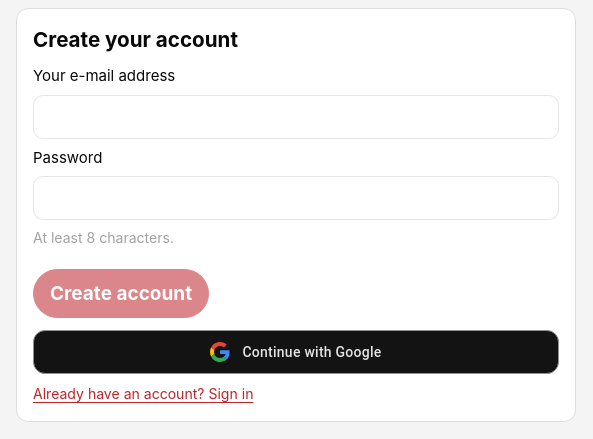
Test case: 32.16 §2.0 — create an account › an e-mail already on file for someone's record → the code step (account.verify.title, account.on_file, auth.code.enter with the e-mail, the FAKE code marked) →
The width and height of the screenshot is (593, 439).
Later steps or results of the test are not shown.
Type "Maya@Example.com" into the field labelled "Your e-mail address".
click(296, 117); type("Maya@Example.com")  # box [33,95,559,139]
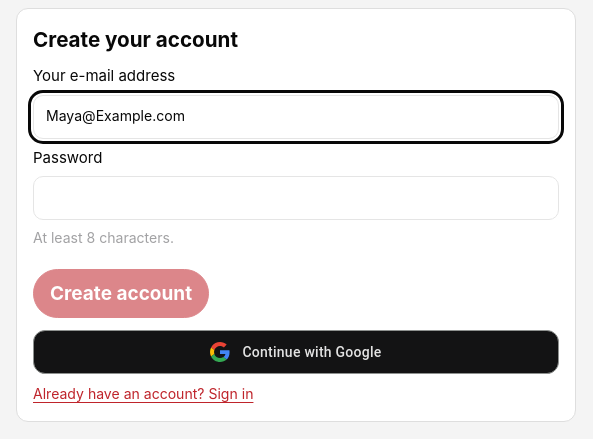
Type "correct horse" into the password field labelled "Password".
click(296, 198); type("correct horse")  # box [33,176,559,220]
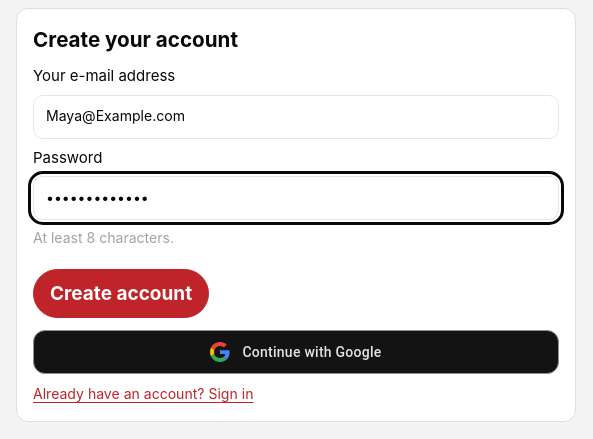
Click the button "Create account".
click(121, 294)  # box [33,269,209,318]
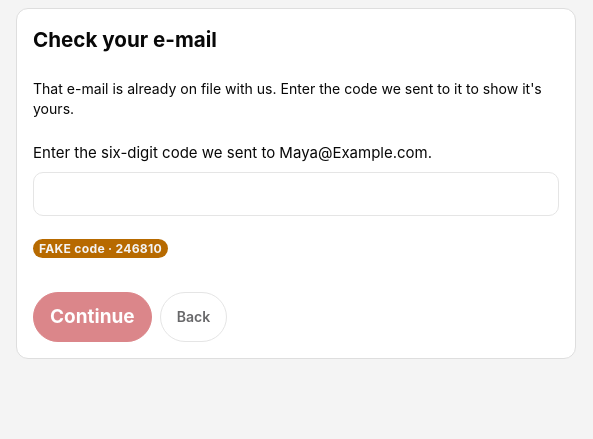
Now the heading "Check your e-mail" is shown, box [33,27,217,52]
Now the text with test id "account-on-file" shows "That e-mail is already on file with us. Enter the code we sent to it to show it's yours.", box [33,80,542,117]
Now the text with test id "fake-code" reads "FAKE code · 246810", box [33,239,168,258]
